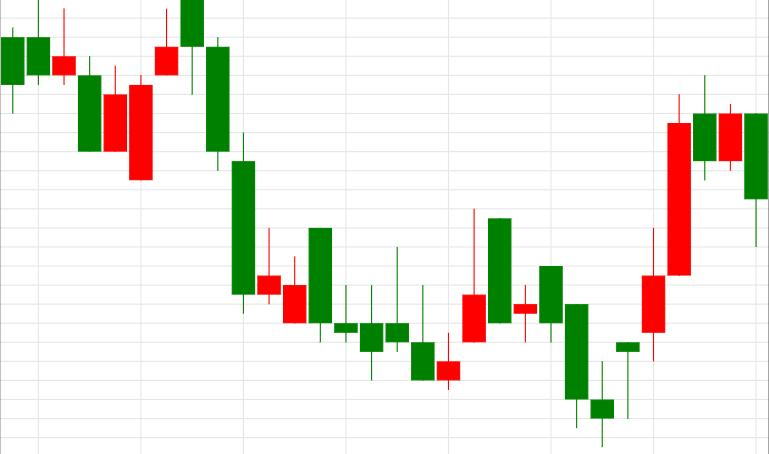inverse_hammer_rise: (309, 229, 434, 380)
three_black_crows_fall: (104, 0, 254, 314)
